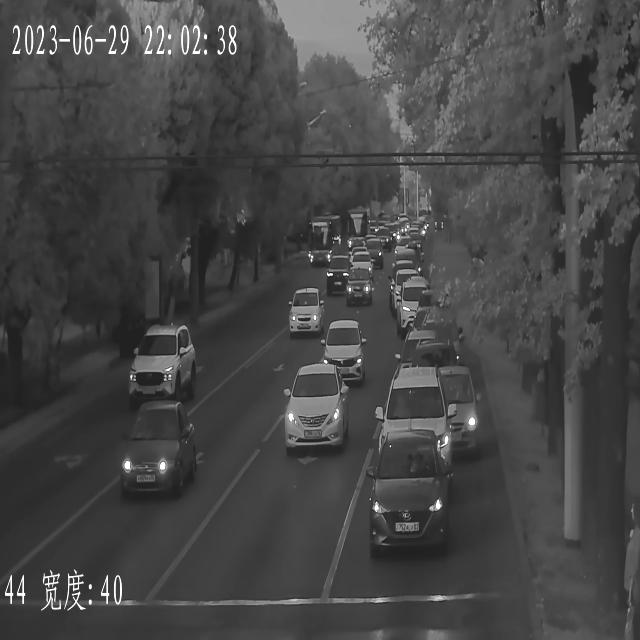Bus: (308, 218, 345, 268), (348, 210, 370, 246)
Car: (361, 434, 451, 558), (379, 363, 476, 474), (110, 408, 196, 503), (276, 362, 348, 454), (127, 325, 201, 411), (380, 428, 448, 490), (320, 321, 364, 386), (395, 282, 442, 336), (402, 340, 460, 383), (412, 317, 463, 360), (285, 288, 324, 338), (402, 306, 446, 348), (390, 269, 430, 308), (345, 271, 376, 307), (324, 256, 354, 286), (324, 270, 351, 296), (394, 250, 420, 276), (308, 248, 332, 268), (361, 239, 383, 258), (351, 252, 373, 270), (373, 231, 393, 250), (406, 230, 424, 244)
